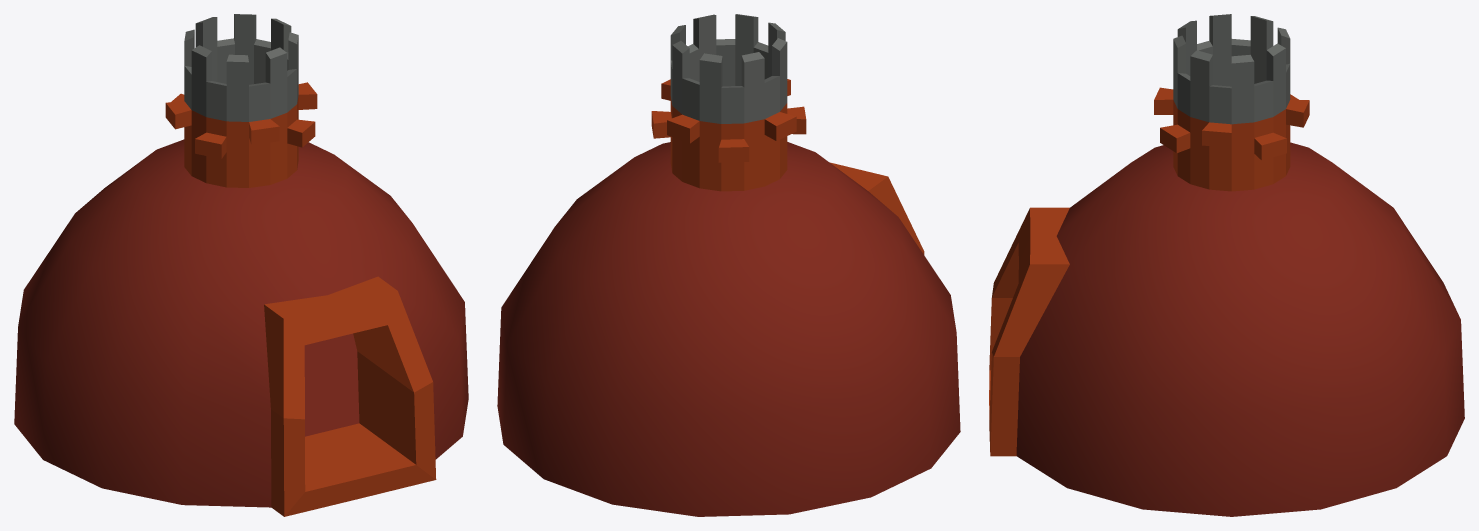
File: Horno.fbx
The picture shows the model from 3 angles, left to right: view 1: azimuth 30°, elevation 25°; view 2: azimuth 150°, elevation 25°; view 3: azimuth 270°, elevation 25°; orthographic projection.
Visible parts, largest first — view 1: Sphere; view 2: Sphere; view 3: Sphere.
Boxes of the visible parts, x1,y1,x2,y2 form: Sphere: (14,14,468,516); Sphere: (497,14,960,516); Sphere: (989,14,1464,516).
Size of the model in its own units: 121 by 110 by 123.
